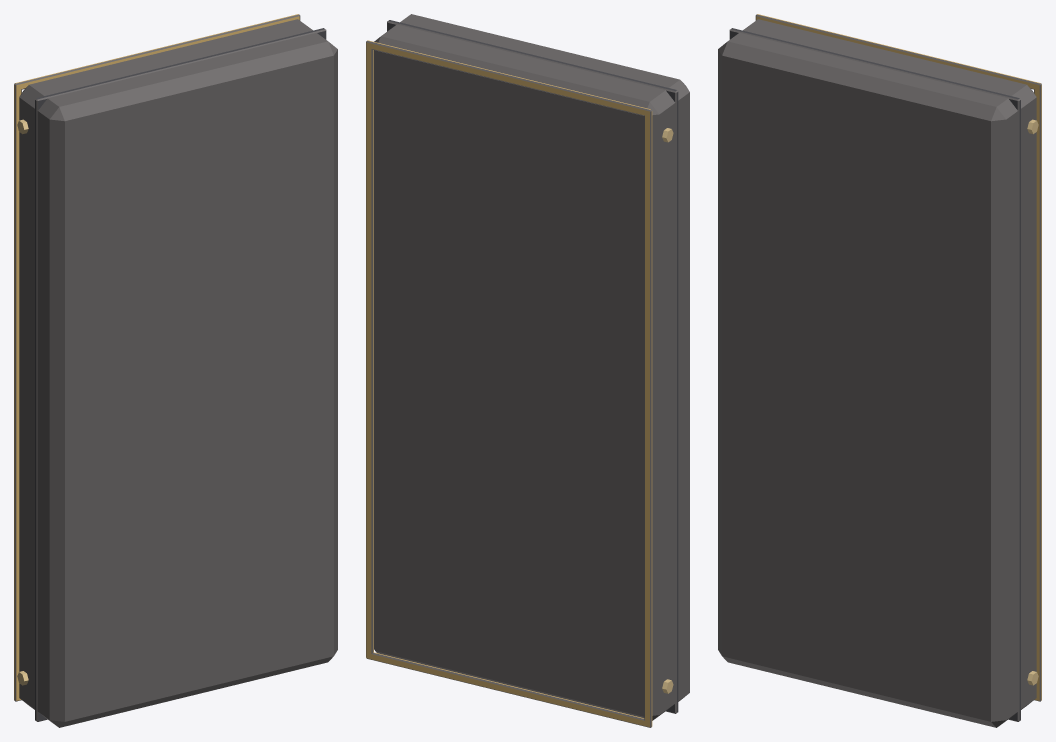
File: Housing_1x2.fbx
The picture shows the model from 3 angles, left to right: view 1: azimuth 30°, elevation 25°; view 2: azimuth 150°, elevation 25°; view 3: azimuth 330°, elevation 25°; orthographic projection.
Parts seen in each view (by area): view 1: Housing_1x2; view 2: Housing_1x2; view 3: Housing_1x2.
Boxes of the visible parts, x1=… form: Housing_1x2: x1=14, y1=14, x2=337, y2=727; Housing_1x2: x1=366, y1=14, x2=689, y2=727; Housing_1x2: x1=718, y1=14, x2=1041, y2=727.
Bounding box in the file's own units: 1.07 × 2.15 × 0.27.
